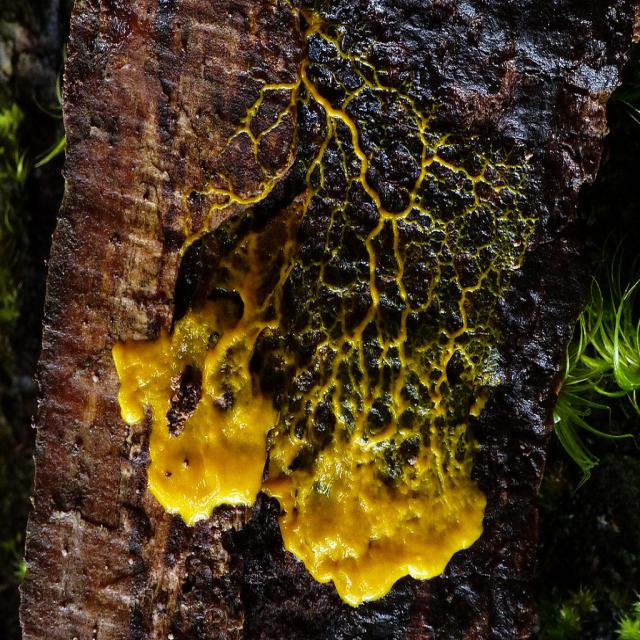Rod_bacteria: (112, 4, 541, 609)
